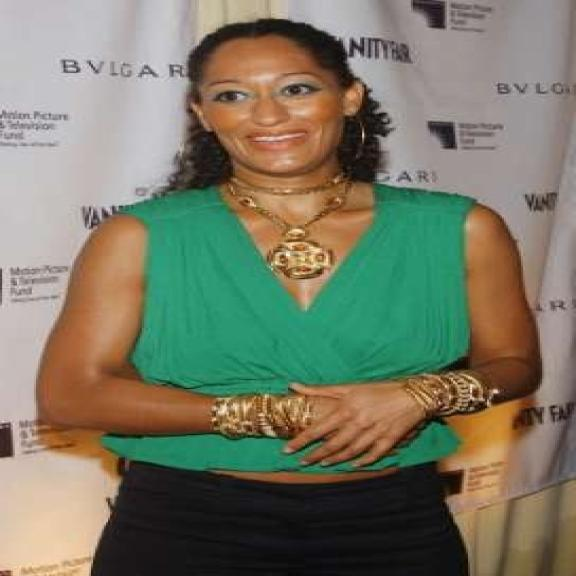face: (180, 26, 376, 181)
